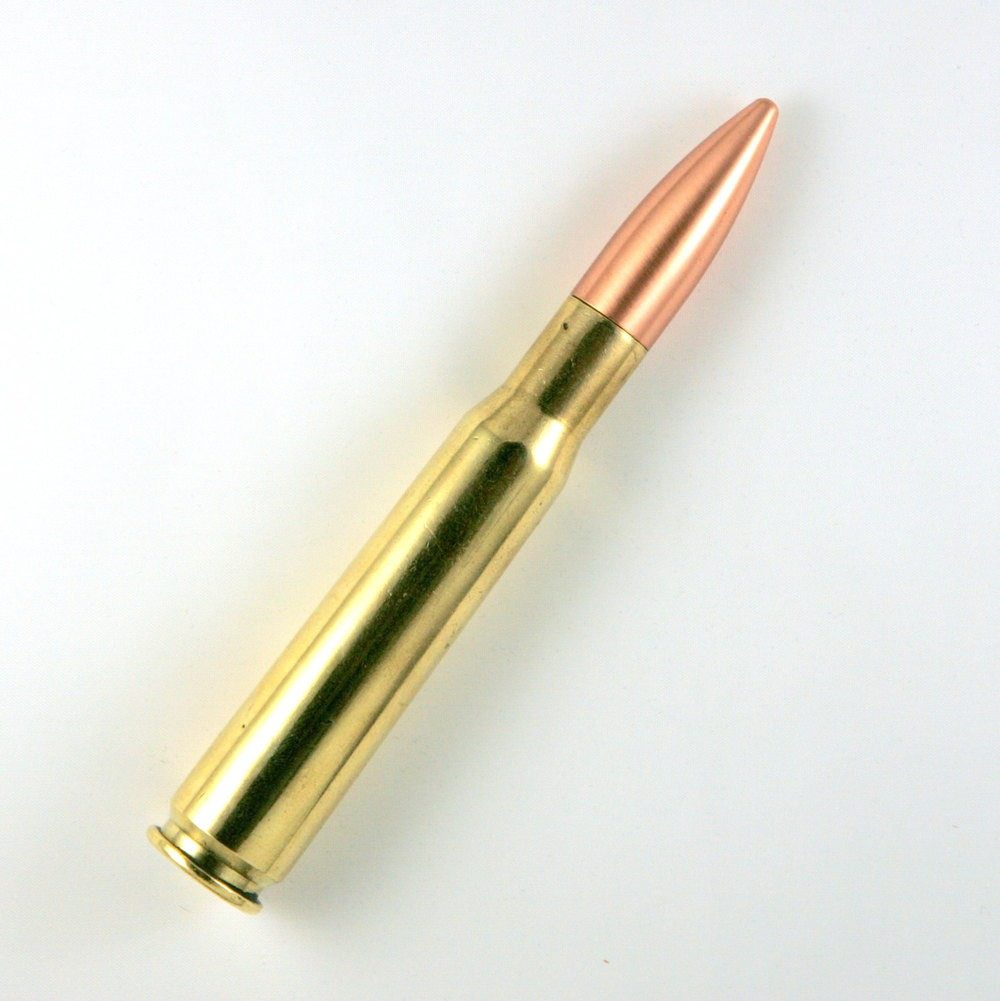bullet: (141, 86, 792, 918)
